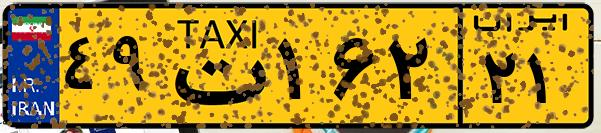1: (270, 28, 330, 110), (525, 38, 570, 115)
2: (385, 28, 445, 110), (475, 38, 525, 113)
4: (57, 26, 110, 100)
6: (330, 28, 385, 110)
9: (110, 28, 158, 98)
ت: (158, 12, 270, 120)
